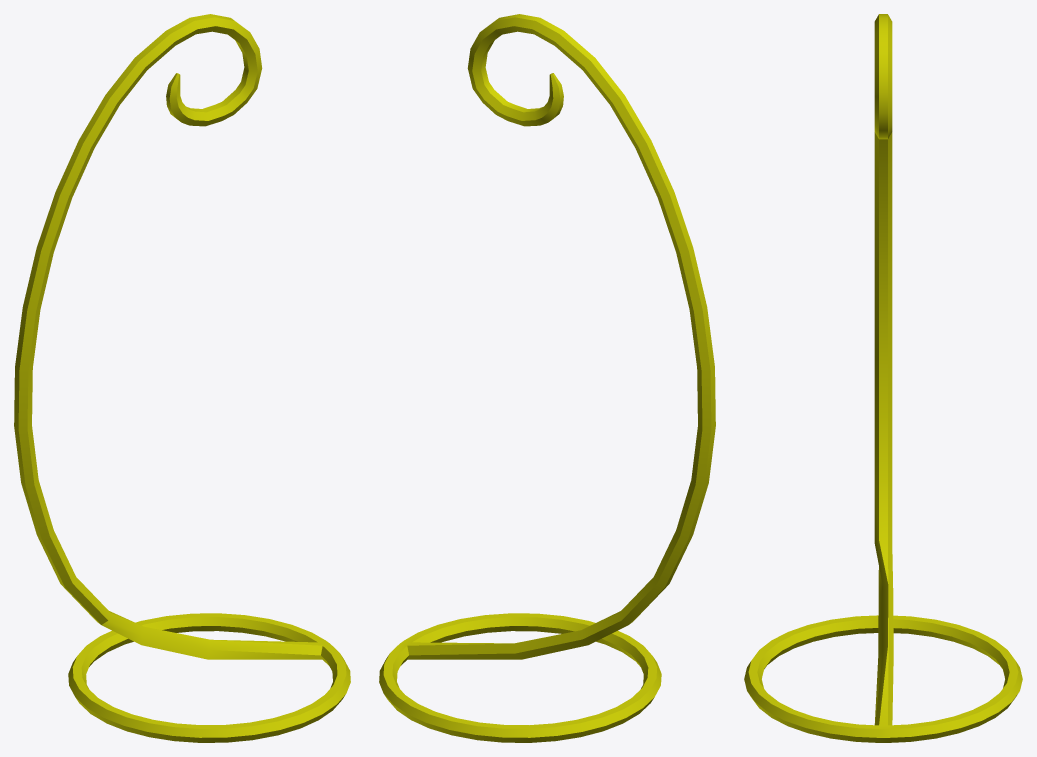
The model's file is dfk_lamp_base.fbx.
The picture shows the model from 3 angles, left to right: view 1: azimuth 30°, elevation 25°; view 2: azimuth 150°, elevation 25°; view 3: azimuth 270°, elevation 25°; orthographic projection.
Visible parts, largest first — view 1: LampBase; view 2: LampBase; view 3: LampBase.
Boxes of the visible parts, <box> form: LampBase: <box>14,14,350,742</box>; LampBase: <box>379,14,715,742</box>; LampBase: <box>744,14,1022,742</box>.
Bounding box in the file's own units: 0.2786 × 0.5651 × 0.2165.
